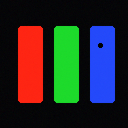0 point: (98, 43, 102, 47)
